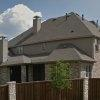Chimney: (27, 12, 43, 33)
